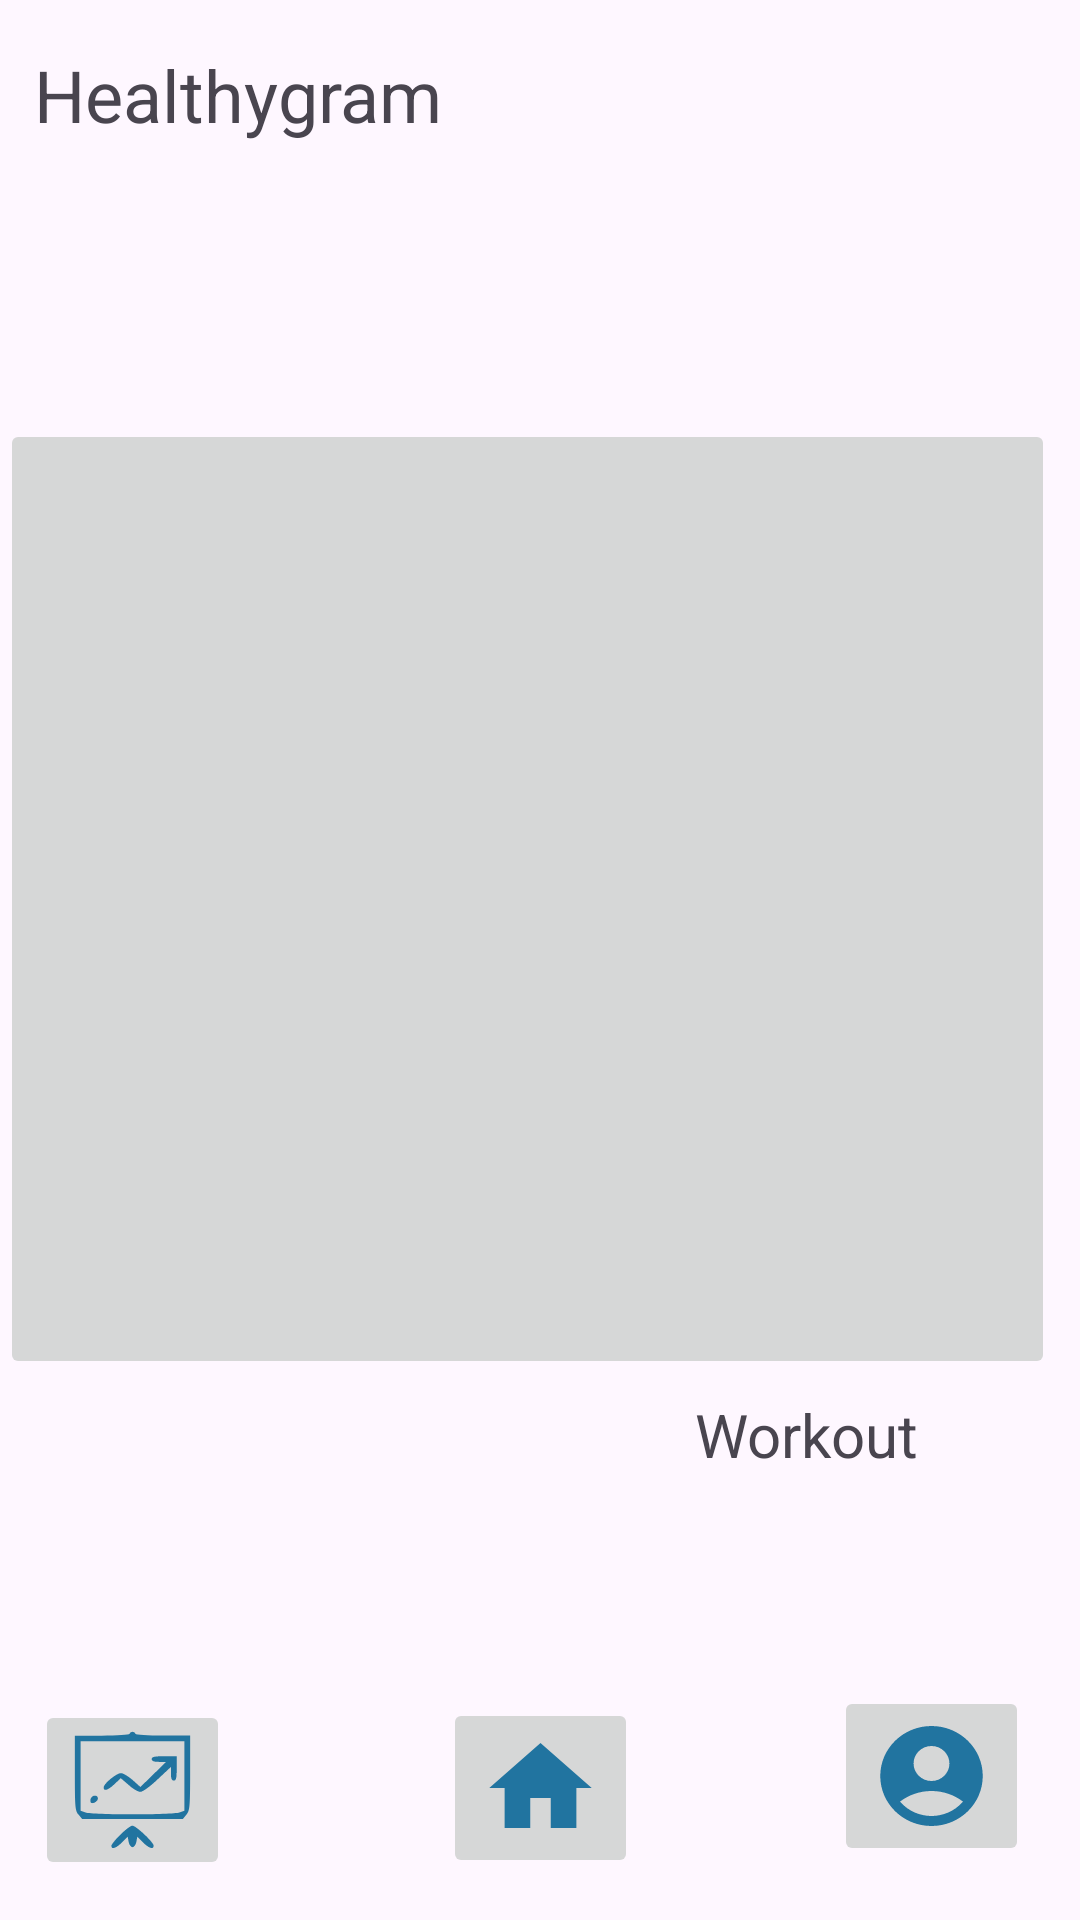

Named icons in this screenshot (1080 x 1920) and their bounding boxes, {"x1": x1, "y1": y1, "x2": x2, "y2": y2}:
account circle: {"x1": 846, "y1": 1704, "x2": 1017, "y2": 1848}
home: {"x1": 455, "y1": 1716, "x2": 626, "y2": 1860}
statistics: {"x1": 47, "y1": 1718, "x2": 218, "y2": 1862}
